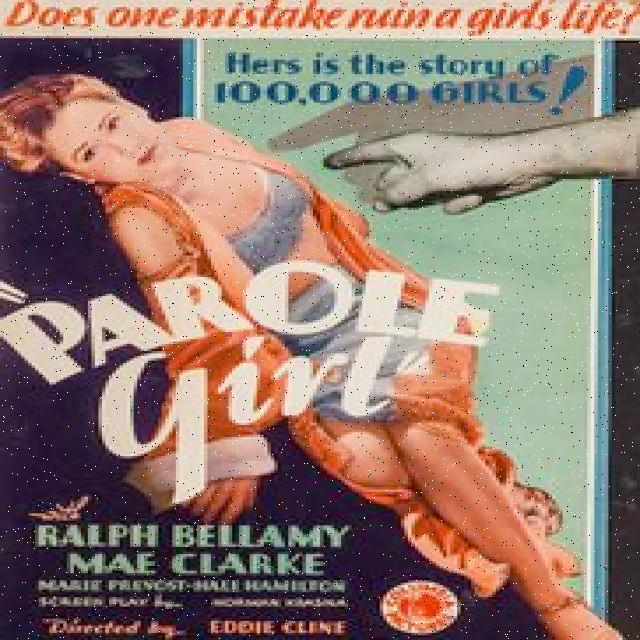movie-judul: (0, 262, 513, 505)
picture: (0, 71, 636, 640)
